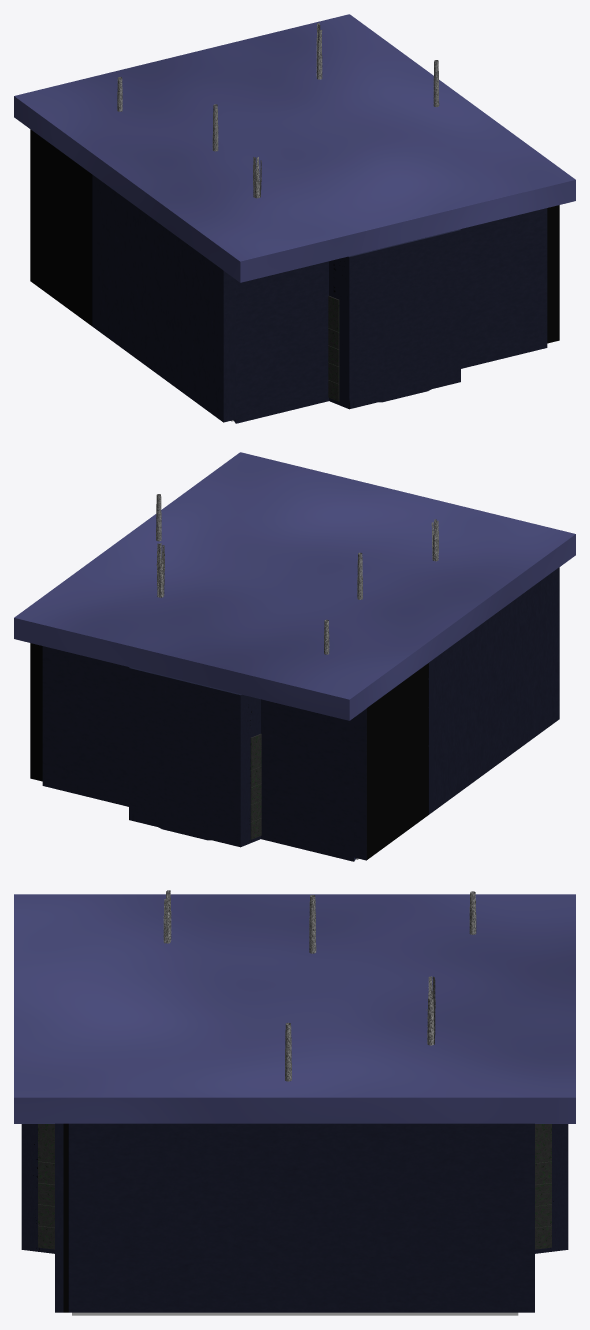
Rendered from Spider_LairTest1.fbx.
3 views of the same model, one above another, from view 1: azimuth 30°, elevation 25°; view 2: azimuth 150°, elevation 25°; view 3: azimuth 270°, elevation 25° (orthographic). The views are drawn at different scales.
Visible parts, largest first — view 1: Roof_geo, Walls_Gates_Bot_geo, Walls_Left_geo, Walls_Right_geo, Gates_Bot_geo; view 2: Roof_geo, Walls_Gates_Top_geo, Walls_Left_geo, Walls_Right_geo, Gates_Top_geo; view 3: Roof_geo, Walls_Right_geo, Walls_Gates_Bot_geo, Walls_Gates_Top_geo, Gates_Top_geo, Gates_Bot_geo, Ground_geo.
Boxes of the visible parts, bbox=[...] form: Roof_geo: bbox=[14, 14, 575, 282]; Walls_Gates_Bot_geo: bbox=[233, 208, 547, 423]; Walls_Left_geo: bbox=[30, 129, 235, 422]; Walls_Right_geo: bbox=[547, 205, 559, 343]; Gates_Bot_geo: bbox=[328, 296, 339, 401]; Roof_geo: bbox=[14, 452, 575, 720]; Walls_Gates_Top_geo: bbox=[42, 646, 356, 861]; Walls_Left_geo: bbox=[354, 567, 559, 860]; Walls_Right_geo: bbox=[30, 643, 42, 781]; Gates_Top_geo: bbox=[250, 734, 261, 839]; Roof_geo: bbox=[14, 894, 575, 1123]; Walls_Right_geo: bbox=[55, 1123, 534, 1312]; Walls_Gates_Bot_geo: bbox=[21, 1124, 54, 1253]; Walls_Gates_Top_geo: bbox=[535, 1124, 568, 1253]; Gates_Top_geo: bbox=[535, 1124, 551, 1249]; Gates_Bot_geo: bbox=[38, 1124, 54, 1249]; Ground_geo: bbox=[72, 1312, 518, 1315].
Bounding box in the file's own units: 2160 × 2519 × 1444.
